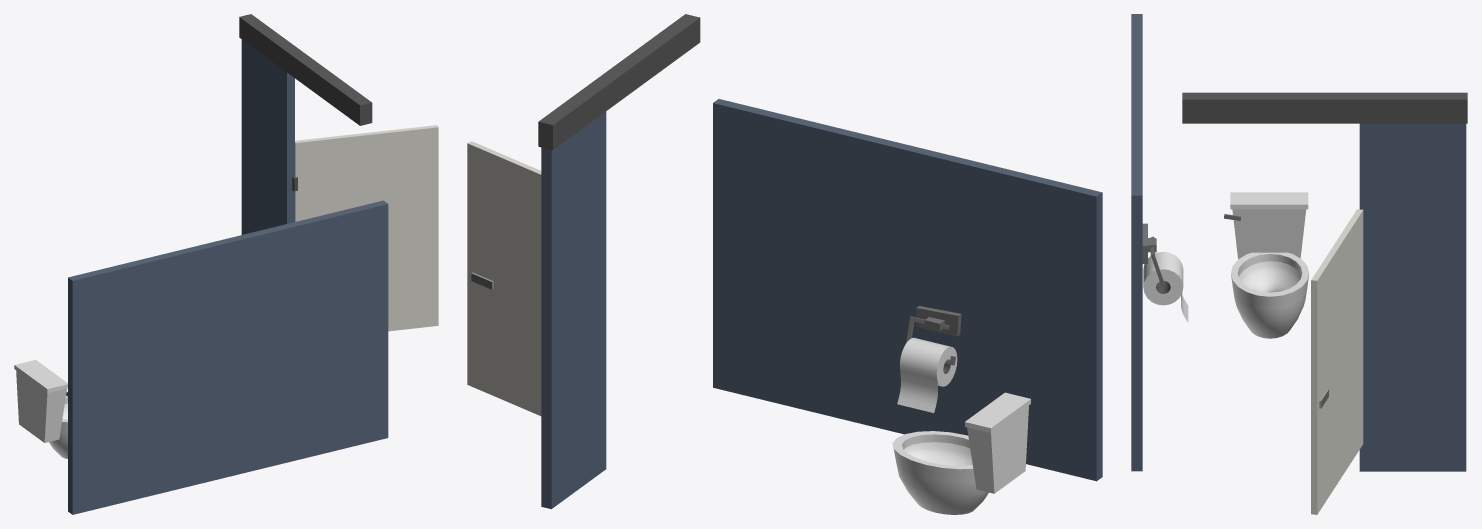
The model's file is cabinetToilette_v02.fbx.
3 views of the same model, side by side, from view 1: azimuth 30°, elevation 25°; view 2: azimuth 150°, elevation 25°; view 3: azimuth 270°, elevation 25° (orthographic). The views are drawn at different scales.
Visible parts, largest first — view 1: toilette, porte; view 2: toilette, porte; view 3: toilette, porte.
Part boxes in pixels (box(x1,y1,x2,y2)): toilette: box(14, 14, 388, 514); porte: box(295, 125, 438, 331); toilette: box(538, 14, 1102, 514); porte: box(467, 141, 541, 415); toilette: box(1131, 14, 1467, 471); porte: box(1311, 209, 1363, 514).
Bounding box in the file's own units: 535 × 367 × 298.
